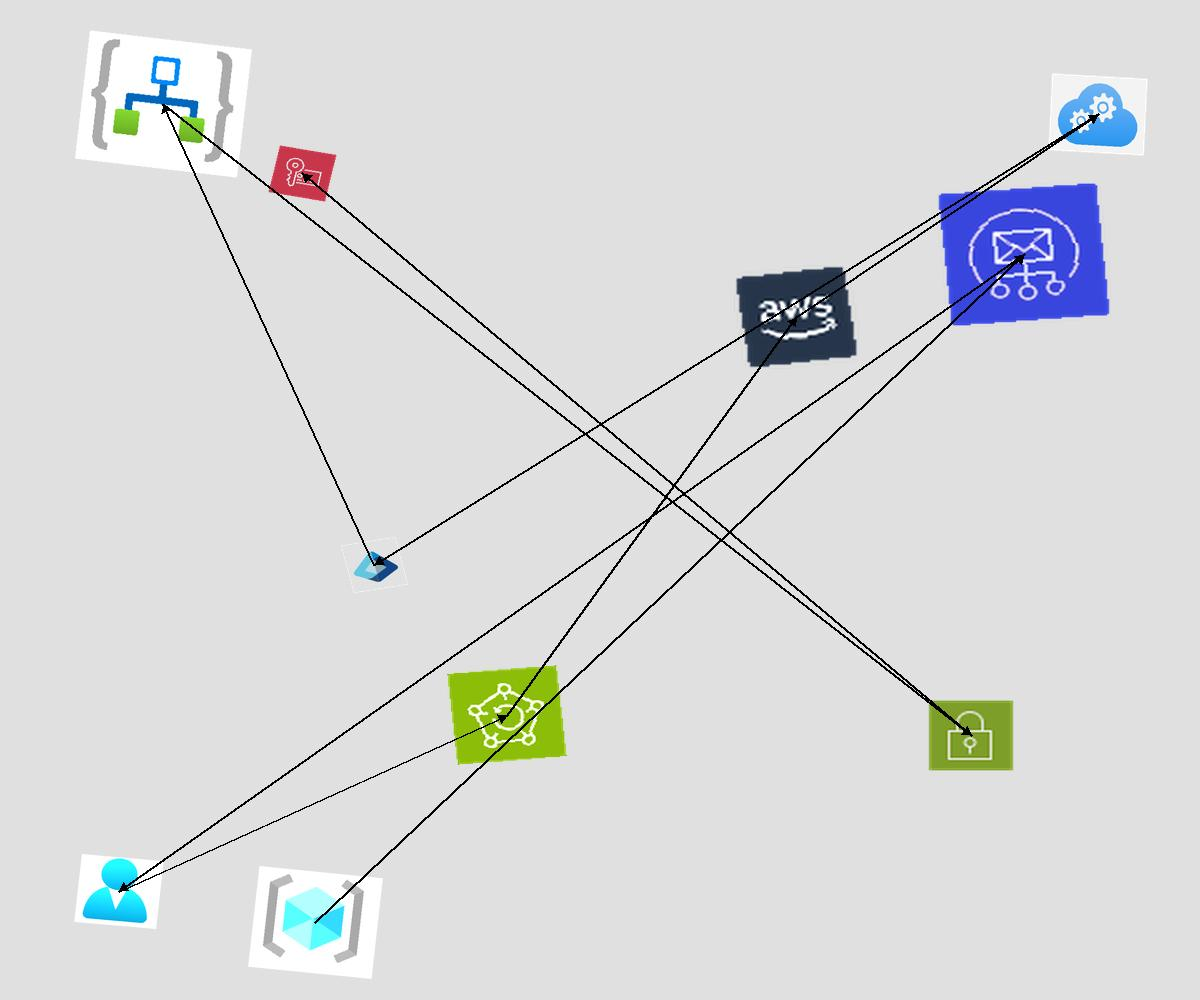AWS-Backup: (447, 665, 567, 765)
AWS-Cloud-logo: (734, 265, 859, 369)
AWS-Key-Management-Service: (268, 145, 337, 202)
AWS-Public-subnet: (927, 699, 1015, 772)
AWS-Simple-Email-Service: (937, 182, 1111, 327)
Azure_cloud_services: (1048, 73, 1148, 156)
Azure_integration-204-Logic-Apps: (75, 30, 252, 178)
Azure_microsoft_entra: (340, 536, 409, 594)
Azure_resource_group: (248, 866, 383, 979)
Azure_users: (74, 854, 164, 929)
